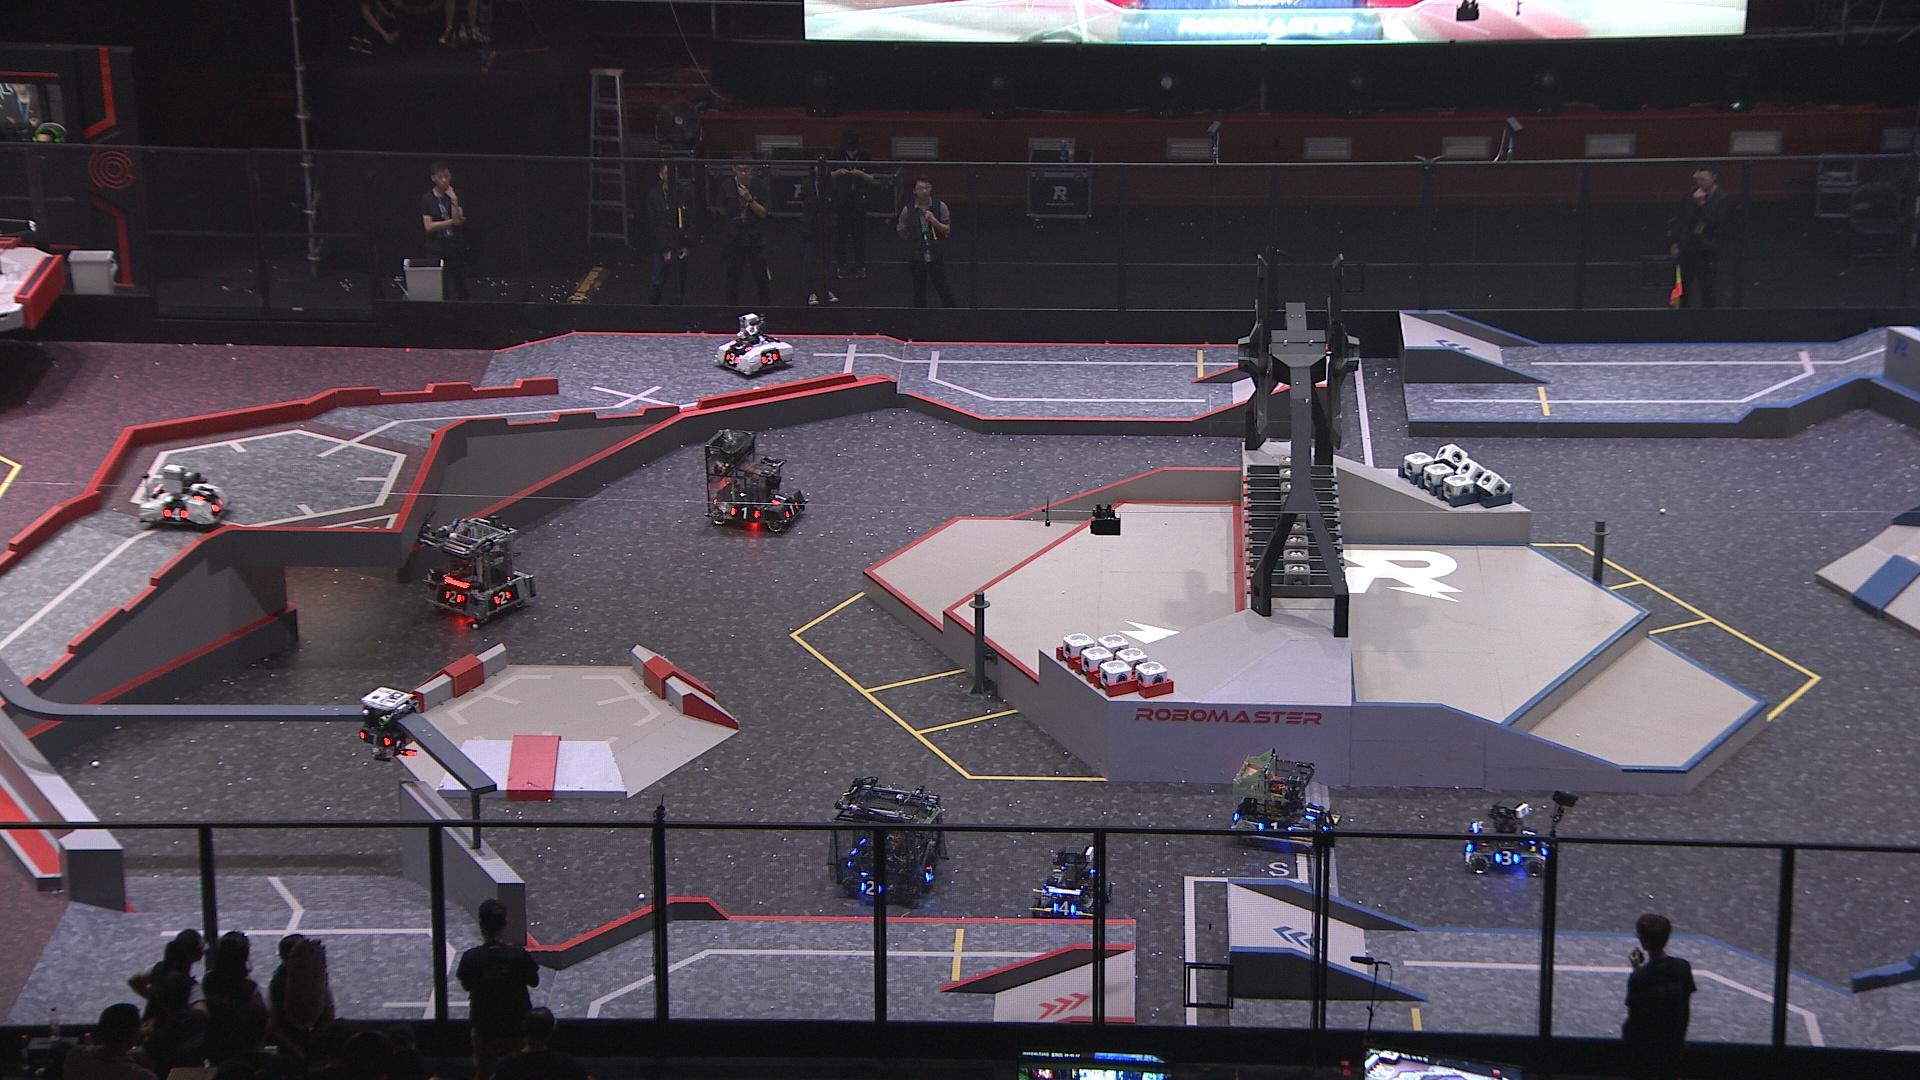armor: (727, 502, 761, 522), (356, 731, 392, 749), (1255, 818, 1294, 833), (1493, 849, 1520, 869), (1050, 898, 1079, 916), (161, 506, 191, 522), (1302, 800, 1323, 823), (858, 878, 884, 895), (443, 589, 465, 608), (491, 589, 514, 607), (191, 487, 214, 504), (206, 496, 225, 514), (761, 351, 782, 367), (783, 500, 799, 520), (924, 864, 939, 884), (771, 491, 789, 506), (731, 339, 752, 351), (723, 352, 740, 367)
car: (823, 777, 945, 905), (418, 514, 531, 626), (702, 429, 807, 535), (1226, 746, 1335, 851), (1461, 798, 1551, 880), (136, 463, 233, 531), (1027, 847, 1114, 920), (713, 311, 794, 377)
watcher: (353, 684, 423, 764)
